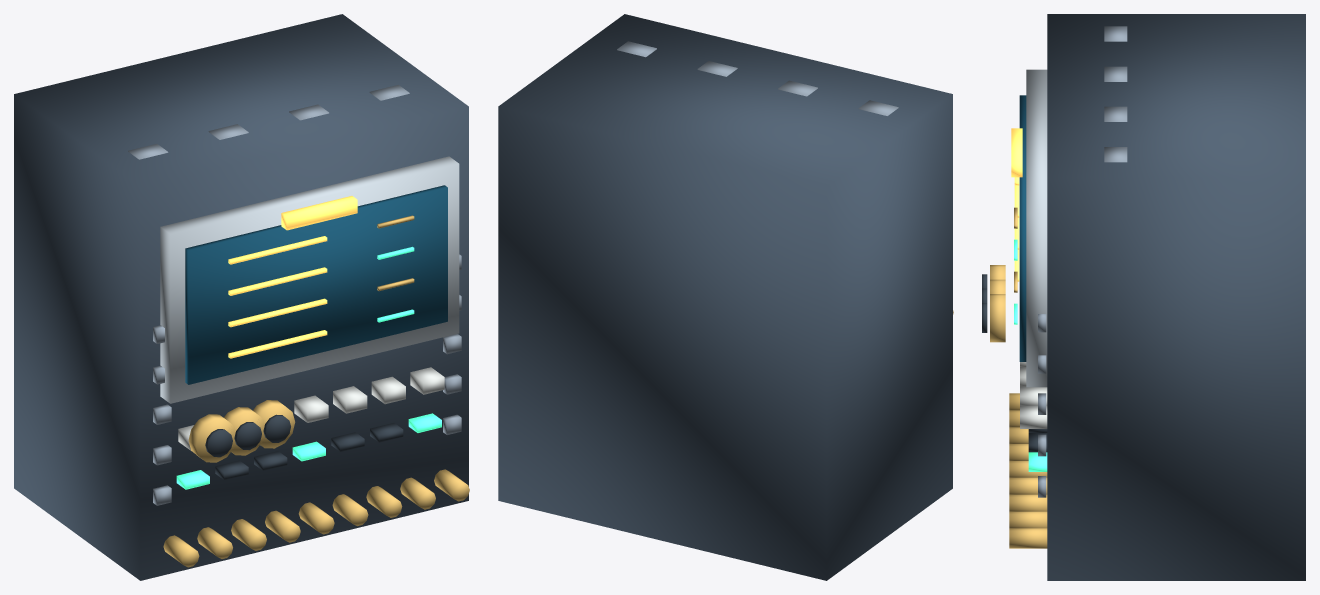
The model's file is 87_L88_EmergencyAtmosphereIsolationConsole.glb.
3 views of the same model, side by side, from view 1: azimuth 30°, elevation 25°; view 2: azimuth 150°, elevation 25°; view 3: azimuth 270°, elevation 25° (orthographic). The views are drawn at different scales.
Visible parts, largest first — view 1: L87_EmergencyAtmosphereIsolat_Part_0000, L87_EmergencyAtmosphereIsolat_Part_0002, L87_EmergencyAtmosphereIsolat_Part_0001, L87_EmergencyAtmosphereIsolat_Part_0004, L87_EmergencyAtmosphereIsolat_Part_0008, L87_EmergencyAtmosphereIsolat_Part_0006, L87_EmergencyAtmosphereIsolat_Part_0003, L87_EmergencyAtmosphereIsolat_Part_0007, L87_EmergencyAtmosphereIsolat_Part_0005, L87_EmergencyAtmosphereIsolat_Part_0009, L87_EmergencyAtmosphereIsolat_Part_0010, L87_EmergencyAtmosphereIsolat_Part_0014 (+4 smaller); view 2: L87_EmergencyAtmosphereIsolat_Part_0000, L87_EmergencyAtmosphereIsolat_Part_0008; view 3: L87_EmergencyAtmosphereIsolat_Part_0000, L87_EmergencyAtmosphereIsolat_Part_0001, L87_EmergencyAtmosphereIsolat_Part_0004, L87_EmergencyAtmosphereIsolat_Part_0008, L87_EmergencyAtmosphereIsolat_Part_0002, L87_EmergencyAtmosphereIsolat_Part_0006, L87_EmergencyAtmosphereIsolat_Part_0014, L87_EmergencyAtmosphereIsolat_Part_0009, L87_EmergencyAtmosphereIsolat_Part_0005, L87_EmergencyAtmosphereIsolat_Part_0003.
Part boxes in pixels (x1,y1,x2,y2): L87_EmergencyAtmosphereIsolat_Part_0000: (14, 14, 468, 580); L87_EmergencyAtmosphereIsolat_Part_0002: (185, 185, 447, 384); L87_EmergencyAtmosphereIsolat_Part_0001: (160, 156, 459, 403); L87_EmergencyAtmosphereIsolat_Part_0004: (163, 215, 469, 567); L87_EmergencyAtmosphereIsolat_Part_0008: (128, 85, 461, 505); L87_EmergencyAtmosphereIsolat_Part_0006: (178, 367, 444, 450); L87_EmergencyAtmosphereIsolat_Part_0003: (228, 236, 327, 358); L87_EmergencyAtmosphereIsolat_Part_0007: (215, 423, 403, 480); L87_EmergencyAtmosphereIsolat_Part_0005: (176, 246, 441, 489); L87_EmergencyAtmosphereIsolat_Part_0009: (281, 196, 357, 230); L87_EmergencyAtmosphereIsolat_Part_0010: (188, 414, 235, 462); L87_EmergencyAtmosphereIsolat_Part_0014: (253, 400, 295, 448); L87_EmergencyAtmosphereIsolat_Part_0000: (498, 14, 952, 580); L87_EmergencyAtmosphereIsolat_Part_0008: (617, 41, 898, 115); L87_EmergencyAtmosphereIsolat_Part_0000: (1047, 14, 1305, 580); L87_EmergencyAtmosphereIsolat_Part_0001: (1026, 69, 1047, 387); L87_EmergencyAtmosphereIsolat_Part_0004: (1009, 207, 1047, 548); L87_EmergencyAtmosphereIsolat_Part_0008: (1038, 26, 1127, 497); L87_EmergencyAtmosphereIsolat_Part_0002: (1019, 95, 1026, 361); L87_EmergencyAtmosphereIsolat_Part_0006: (1020, 362, 1047, 428); L87_EmergencyAtmosphereIsolat_Part_0014: (990, 294, 1005, 342); L87_EmergencyAtmosphereIsolat_Part_0009: (1011, 128, 1022, 177); L87_EmergencyAtmosphereIsolat_Part_0005: (1014, 239, 1047, 471); L87_EmergencyAtmosphereIsolat_Part_0003: (1014, 177, 1019, 281).
Bounding box in the file's own units: 1.04 × 1.2 × 0.8688.
